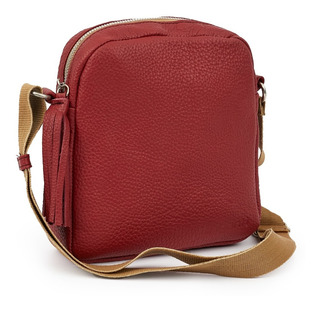cartera: (39, 13, 273, 265)
